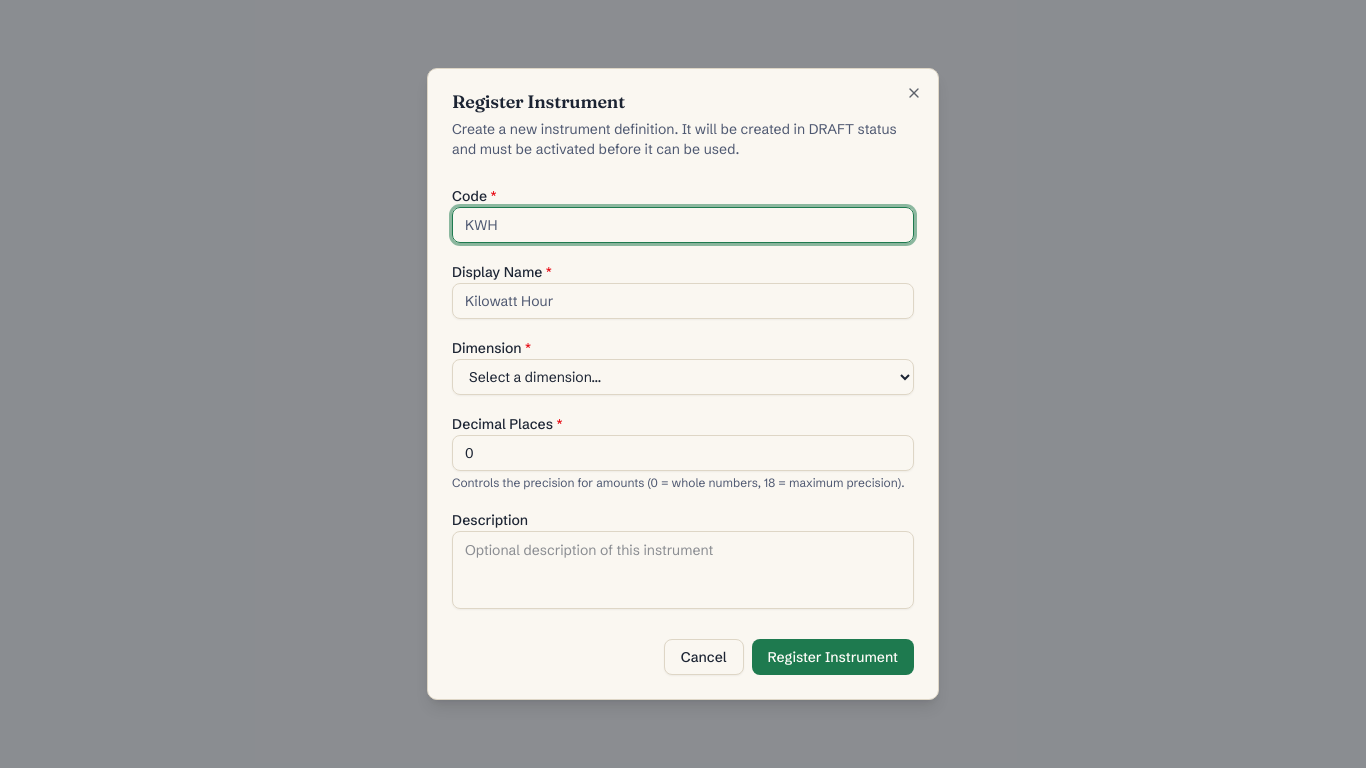
Test case: RegisterInstrumentDialog › validates decimal places range 0-18
This screenshot has width=1366, height=768.
Type "19" into the field labelled "Decimal Places *" at (683, 453), box [452,435,914,471]
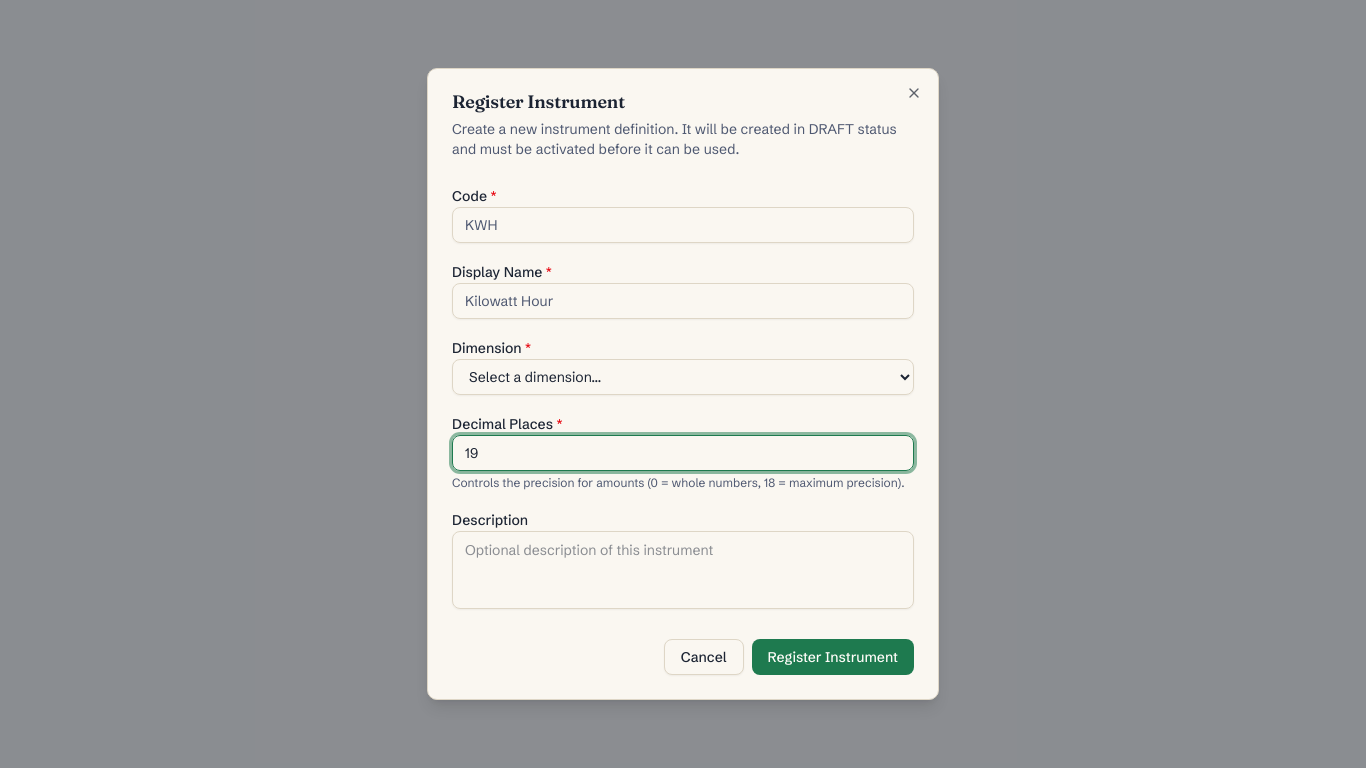
Click the button "Register Instrument" at (833, 657), box [752,639,914,675]
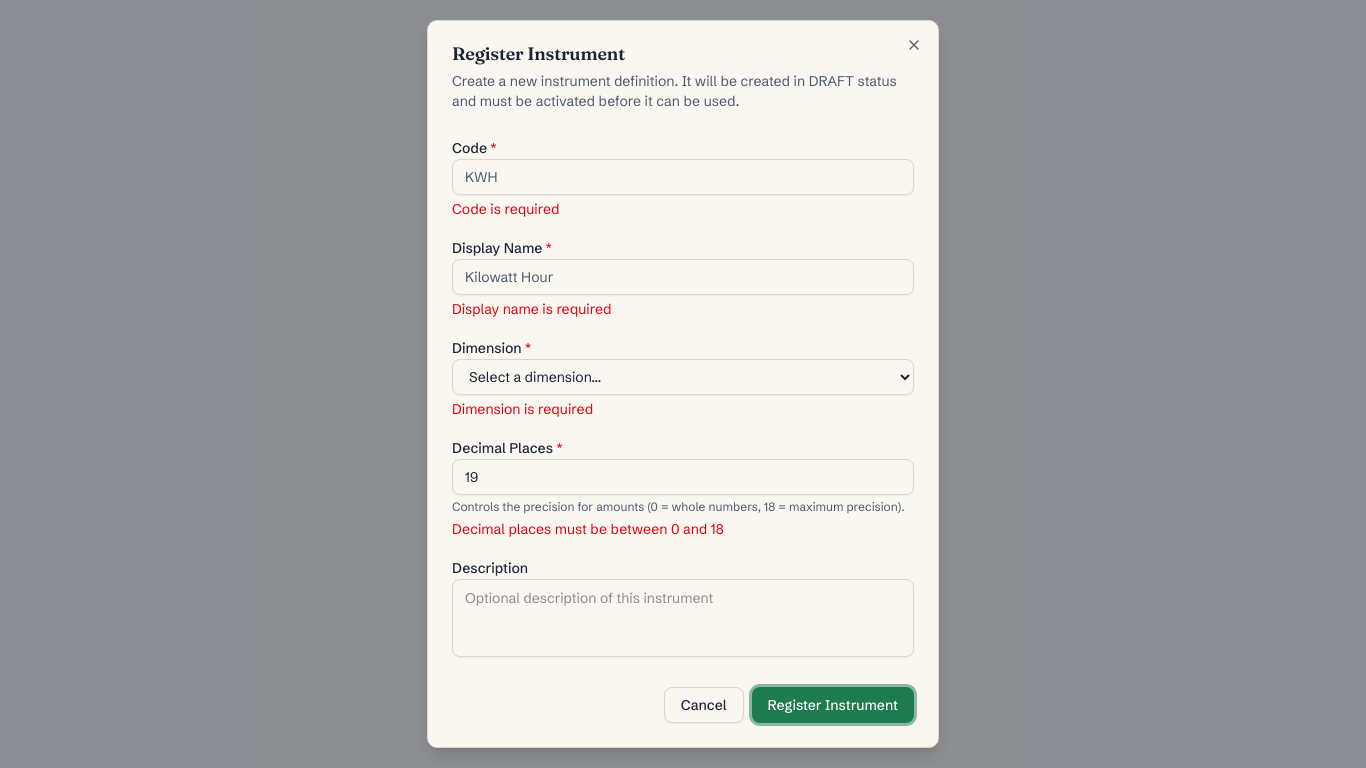
Now the text "Decimal places must be between 0 and 18" is shown, box [452,520,724,538]
